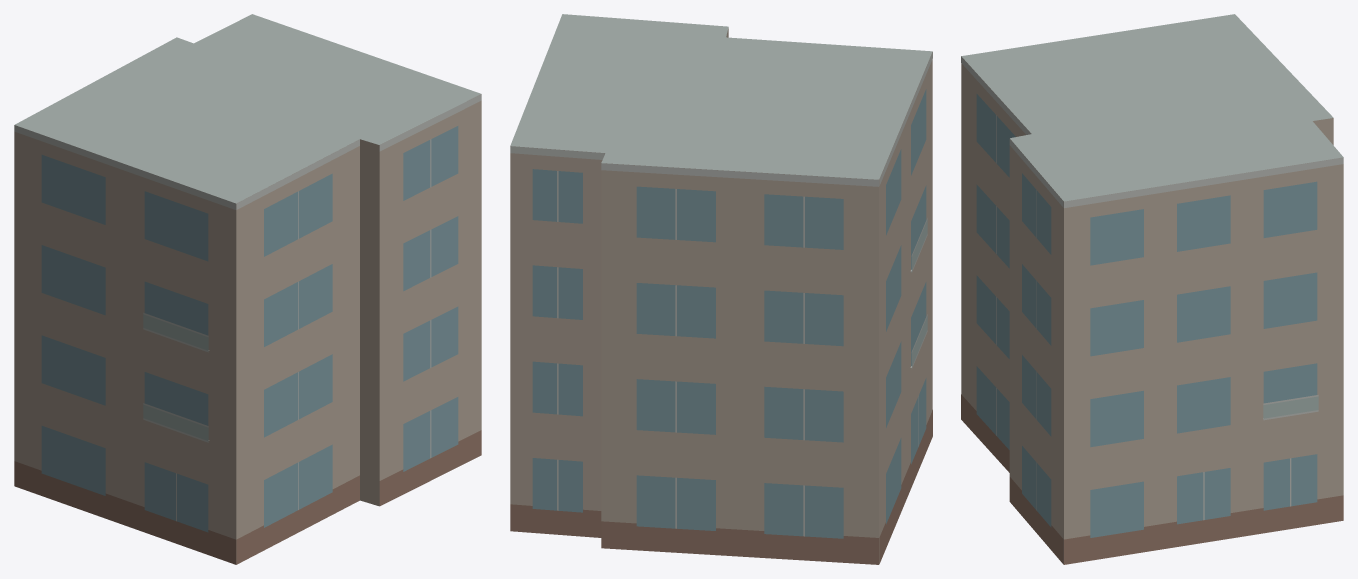
Rendered from survey-upis-32865207.glb.
3 views of the same model, side by side, from view 1: azimuth 30°, elevation 25°; view 2: azimuth 150°, elevation 25°; view 3: azimuth 270°, elevation 25° (orthographic). The views are drawn at different scales.
Visible parts, largest first — view 1: survey-upis-32865207.tmp; view 2: survey-upis-32865207.tmp; view 3: survey-upis-32865207.tmp.
Part boxes in pixels (bbox=[...]): survey-upis-32865207.tmp: bbox=[14, 14, 481, 564]; survey-upis-32865207.tmp: bbox=[510, 14, 932, 564]; survey-upis-32865207.tmp: bbox=[961, 14, 1343, 564].
Size of the model in its own units: 14.68 by 13.25 by 12.66.
